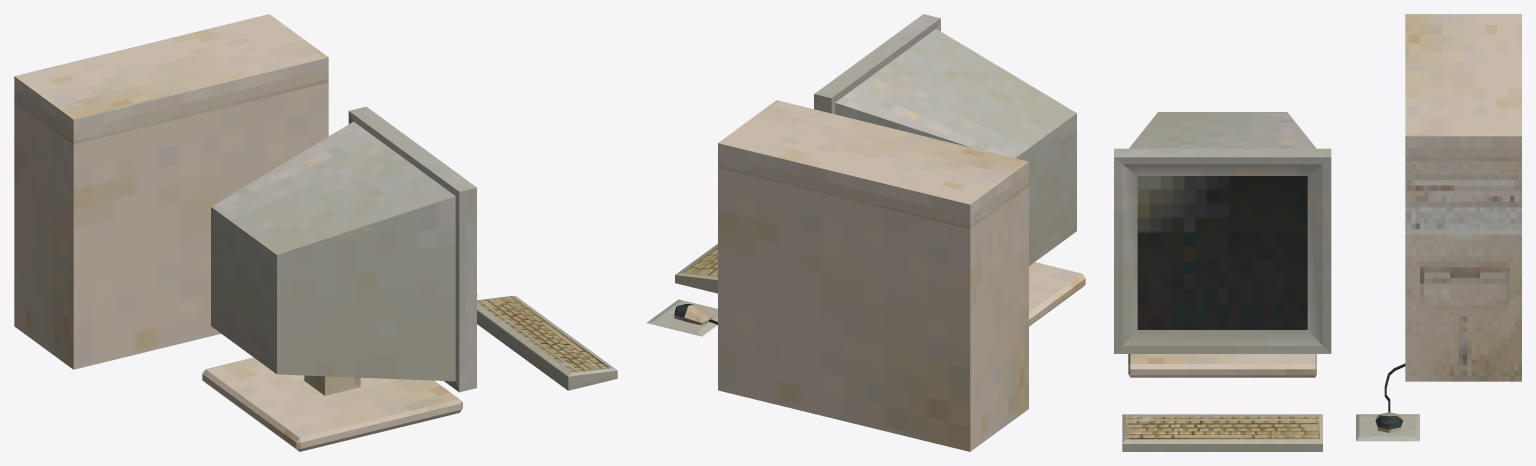
The model's file is Computer.fbx.
3 views of the same model, side by side, from view 1: azimuth 30°, elevation 25°; view 2: azimuth 150°, elevation 25°; view 3: azimuth 270°, elevation 25° (orthographic).
Visible parts, largest first — view 1: Computer; view 2: Computer; view 3: Computer.
Boxes of the visible parts, x1=… form: Computer: x1=14, y1=14, x2=617, y2=451; Computer: x1=646, y1=14, x2=1085, y2=451; Computer: x1=1114, y1=14, x2=1521, y2=451.
Size of the model in its own units: 167 by 100 by 150.
1 material, 1 textured.
